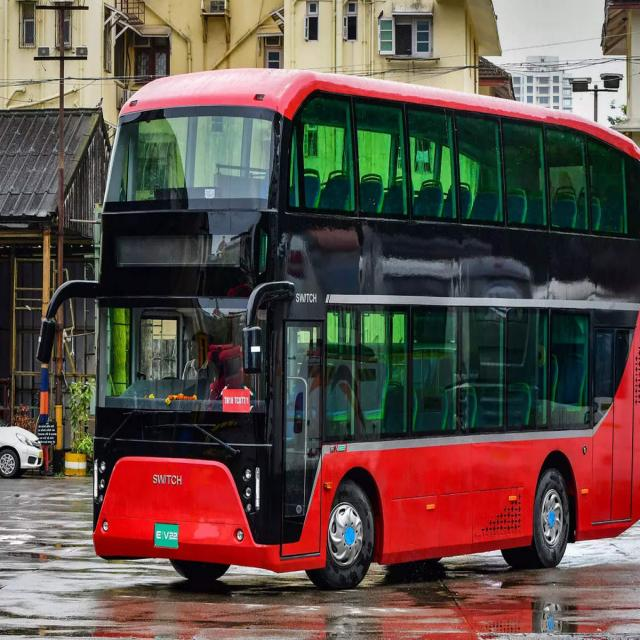bus: (43, 69, 638, 573)
